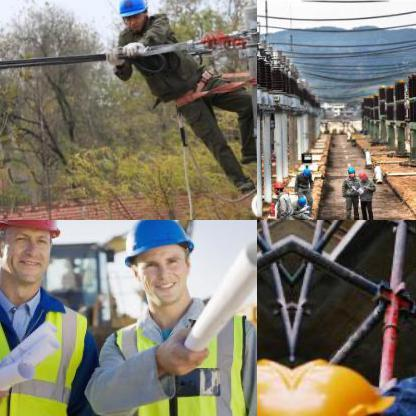Helmet: (110, 220, 205, 315), (290, 354, 401, 415), (0, 220, 74, 295), (257, 353, 292, 415), (115, 0, 150, 33), (266, 175, 286, 195), (295, 192, 309, 206), (299, 164, 313, 178), (356, 168, 368, 182), (344, 163, 354, 177), (409, 190, 415, 213)
